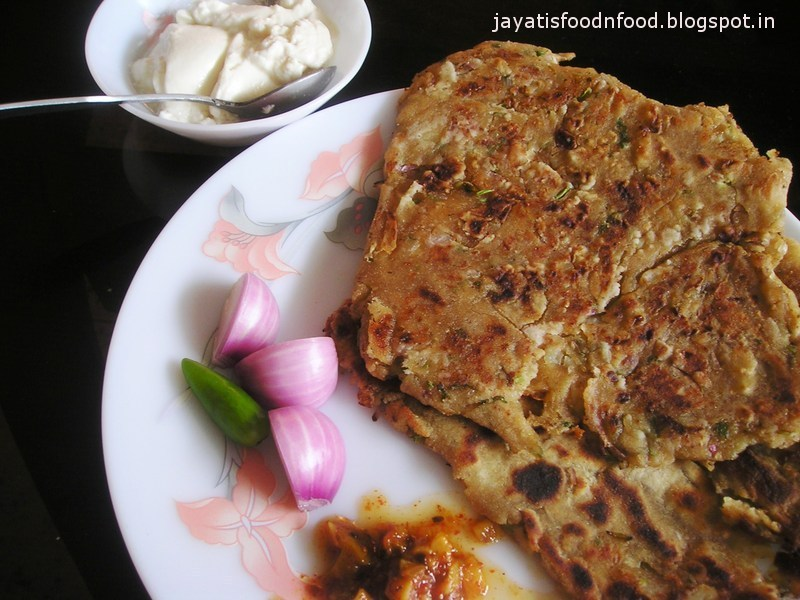aloo_paratha: (355, 42, 798, 600)
